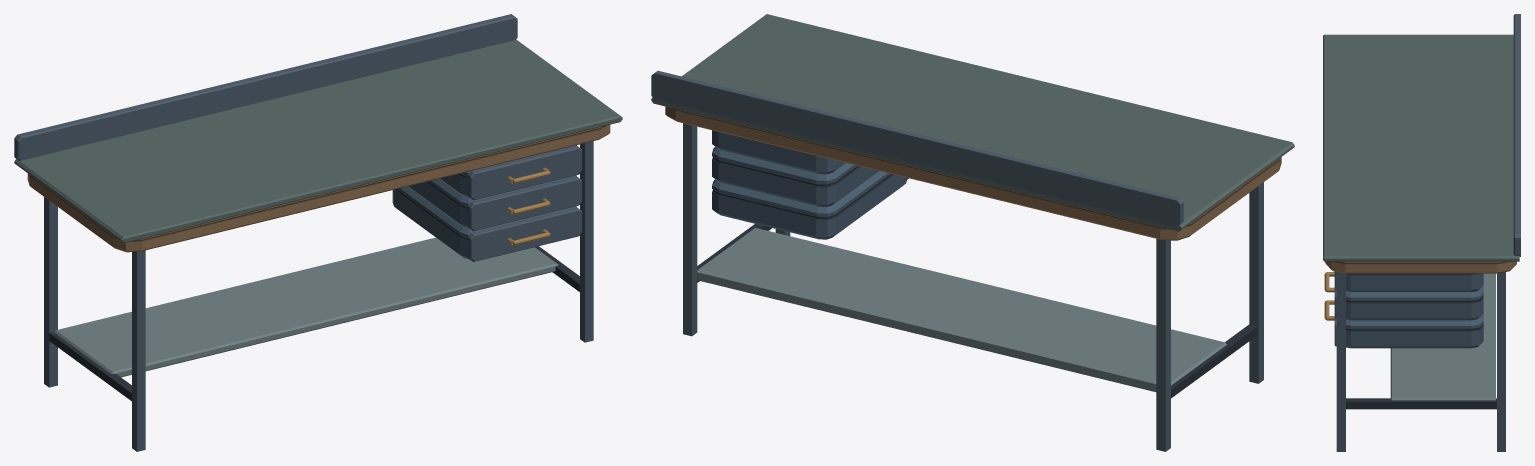
File: B-05b_lab_bench.glb
3 renders of one model, left to right at view 1: azimuth 30°, elevation 25°; view 2: azimuth 150°, elevation 25°; view 3: azimuth 270°, elevation 25°, orthographic. The views are drawn at different scales.
Visible parts, largest first — view 1: B-05b_lab_bench; view 2: B-05b_lab_bench; view 3: B-05b_lab_bench.
Part boxes in pixels (<box>): B-05b_lab_bench: <box>14,14,622,451</box>; B-05b_lab_bench: <box>651,14,1294,451</box>; B-05b_lab_bench: <box>1323,14,1520,451</box>.
Size of the model in its own units: 2.08 by 0.9815 by 0.7775.
